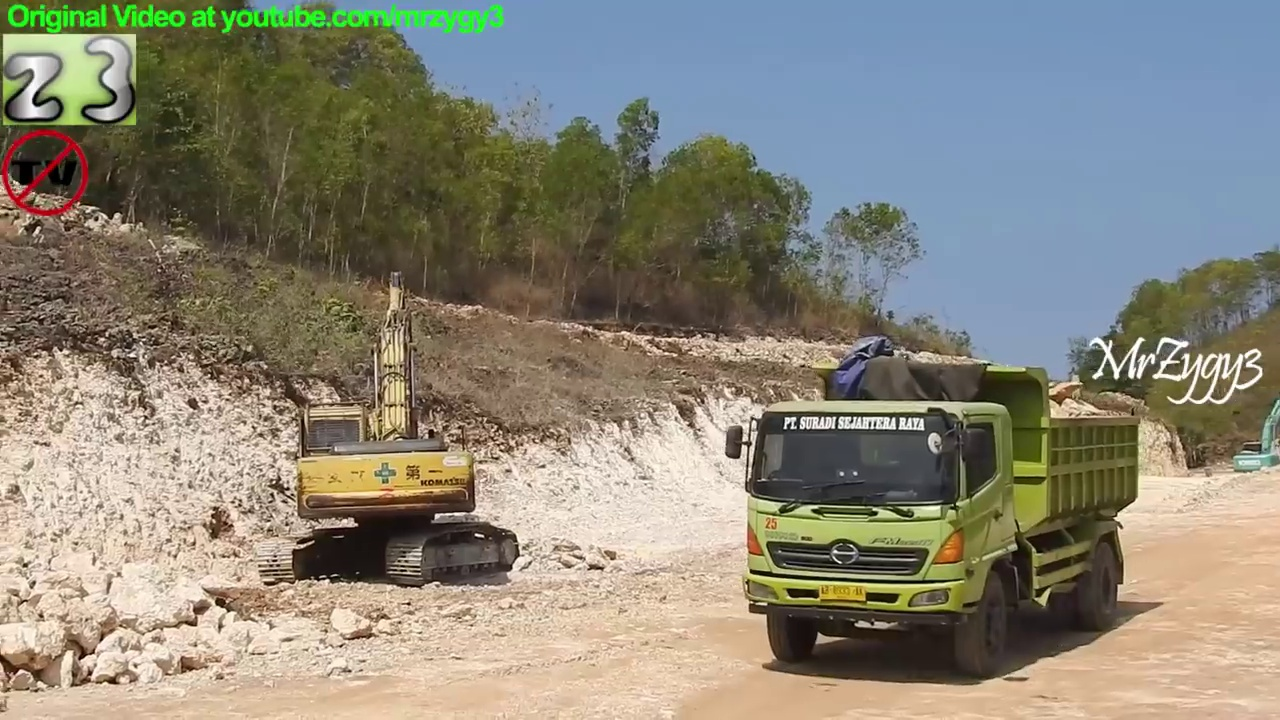excavator: (1227, 393, 1280, 484)
excavator breaker: (248, 262, 527, 595)
truck: (720, 331, 1153, 682)
